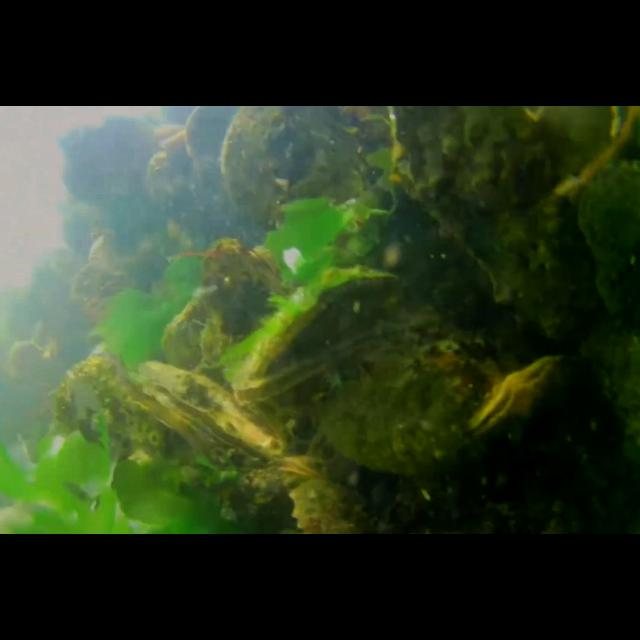Oyster-Closed: (390, 106, 606, 344), (219, 106, 385, 238), (196, 239, 286, 339)
Oyster-Open: (233, 309, 531, 485), (236, 270, 409, 396), (116, 359, 282, 475), (460, 349, 578, 445), (573, 156, 640, 323), (276, 450, 324, 484)
